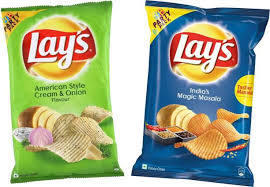lays-large: (1, 5, 126, 178), (142, 2, 256, 183)
